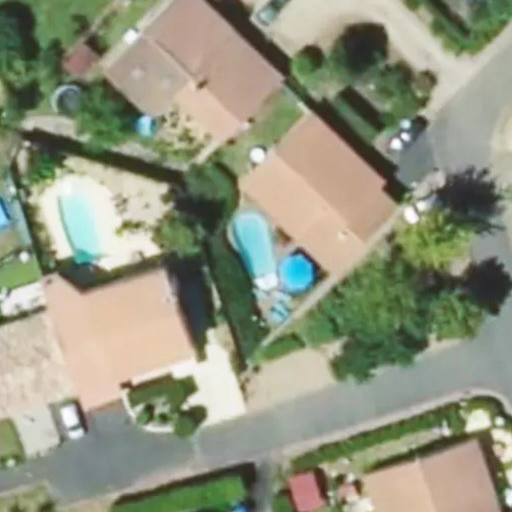pool: (228, 212, 290, 270)
